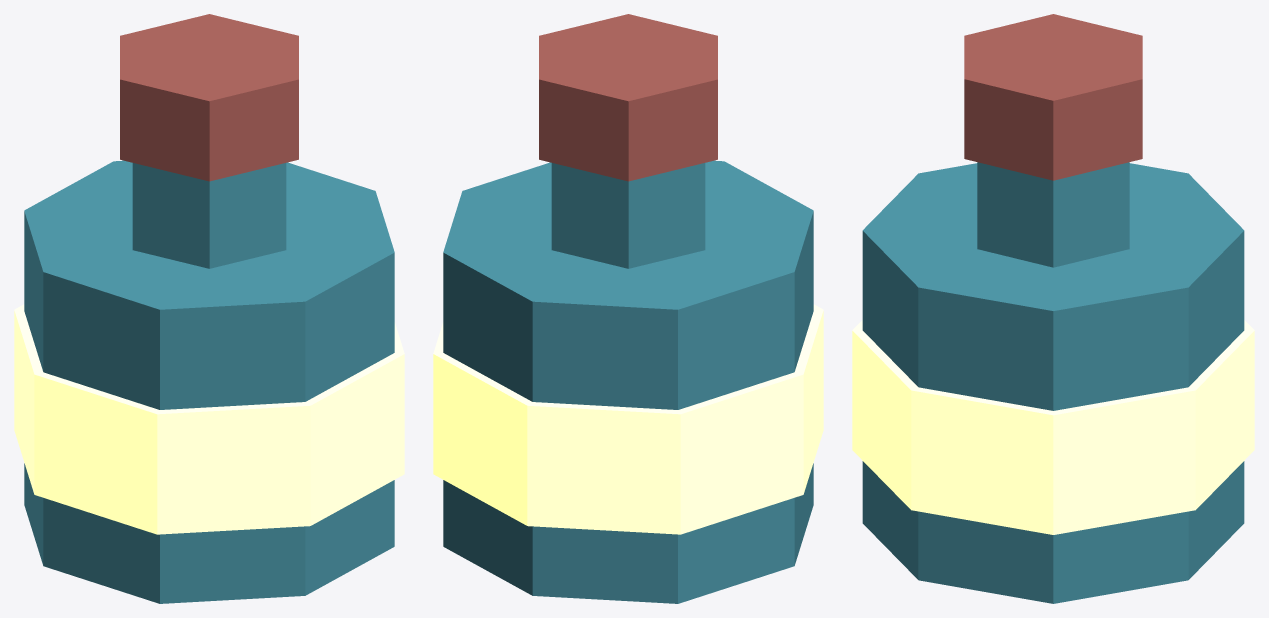
Rendered from flask.glb.
3 renders of one model, left to right at view 1: azimuth 30°, elevation 25°; view 2: azimuth 150°, elevation 25°; view 3: azimuth 270°, elevation 25°, orthographic.
Parts seen in each view (by area): view 1: Jar; view 2: Jar; view 3: Jar.
Boxes of the visible parts, x1,y1,x2,y2 form: Jar: (14,14,404,603); Jar: (433,14,823,603); Jar: (852,14,1254,603).
Size of the model in its own units: 0.274 by 0.35 by 0.274.
